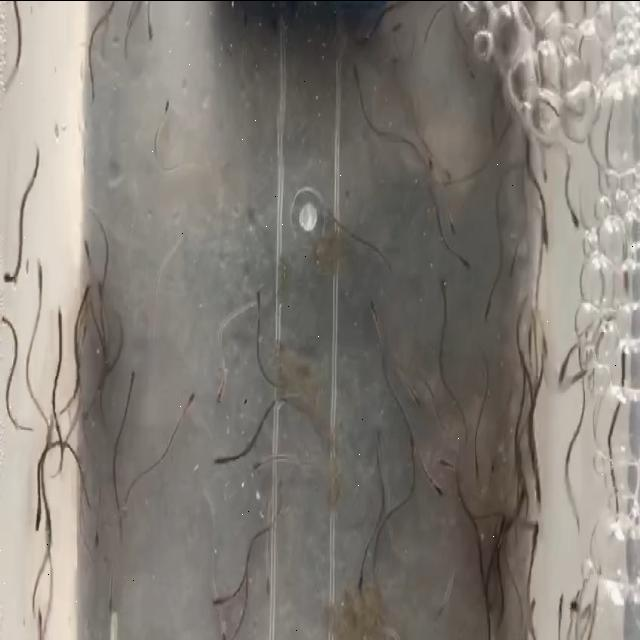active_glass_eel: (96, 279, 112, 337), (429, 268, 452, 302), (98, 584, 114, 632), (90, 512, 106, 560), (366, 282, 380, 334), (524, 516, 544, 552), (564, 203, 582, 241), (546, 592, 566, 626), (426, 472, 446, 506), (539, 206, 553, 253), (214, 600, 230, 640), (507, 414, 523, 454), (567, 585, 579, 638), (614, 336, 632, 371), (124, 360, 140, 398), (480, 288, 499, 319), (453, 252, 474, 280), (0, 296, 14, 338), (571, 352, 587, 386), (528, 480, 544, 514), (252, 273, 268, 307), (80, 228, 92, 272), (441, 207, 459, 236), (31, 492, 44, 532), (212, 382, 228, 414), (467, 457, 482, 491), (538, 330, 552, 366), (146, 10, 160, 46), (355, 565, 369, 600), (345, 61, 363, 88), (0, 258, 16, 288), (212, 442, 228, 472), (406, 428, 418, 468), (438, 447, 452, 481), (52, 310, 64, 349), (249, 446, 263, 478), (34, 256, 46, 290), (63, 554, 78, 581), (230, 618, 246, 640), (556, 349, 566, 384), (162, 96, 175, 122), (33, 605, 45, 632), (104, 0, 114, 31), (186, 384, 197, 410)
